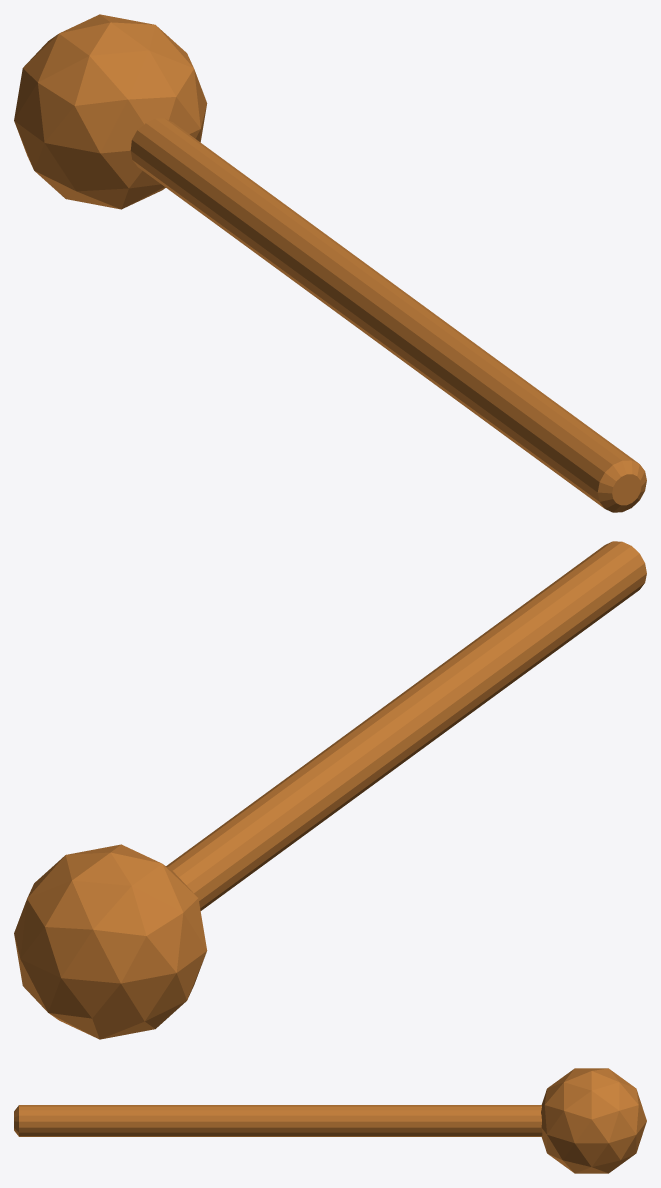
The model's file is xylophone_mallet.glb.
3 renders of one model, top to bottom at view 1: azimuth 30°, elevation 25°; view 2: azimuth 150°, elevation 25°; view 3: azimuth 270°, elevation 25°, orthographic. The views are drawn at different scales.
Visible parts, largest first — view 1: Mallet; view 2: Mallet; view 3: Mallet.
Part boxes in pixels (x1,y1,x2,y2): Mallet: [14, 14, 646, 512]; Mallet: [14, 541, 646, 1039]; Mallet: [14, 1068, 646, 1173].
Bounding box in the file's own units: 0.0918 × 0.0965 × 0.5525.
